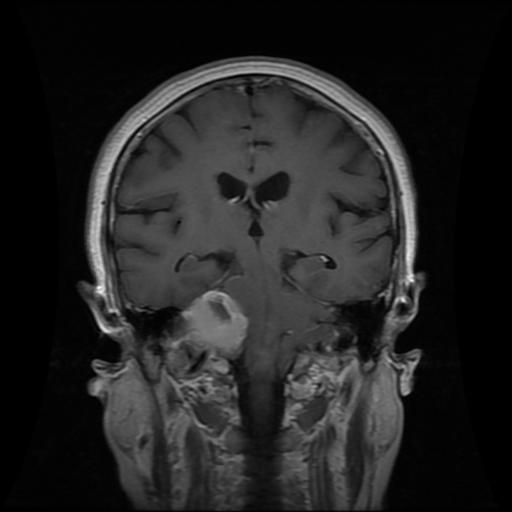Menigiomia_tumour: (161, 291, 247, 358)
